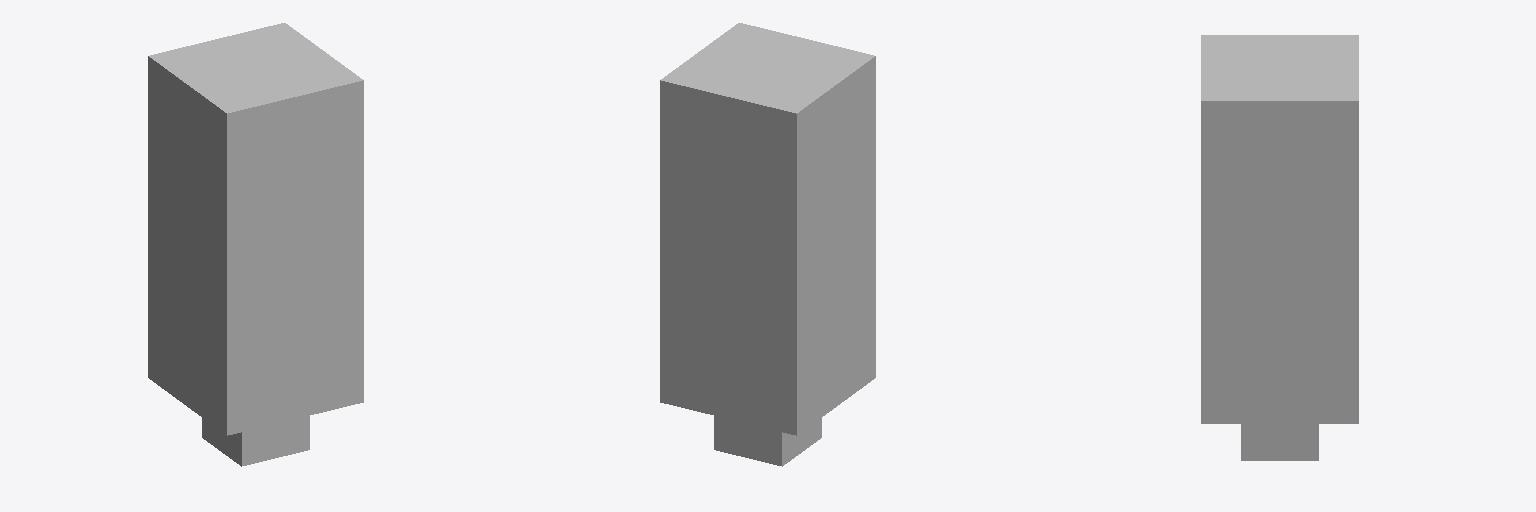
Rendered from tree.obj.
3 views of the same model, side by side, from view 1: azimuth 30°, elevation 25°; view 2: azimuth 150°, elevation 25°; view 3: azimuth 270°, elevation 25° (orthographic).
Visible parts, largest first — view 1: object 1; view 2: object 1; view 3: object 1.
Boxes of the visible parts, box(x1,y1,x2,y2) form: object 1: box(148, 23, 363, 466); object 1: box(660, 23, 875, 466); object 1: box(1201, 35, 1358, 460).
Size of the model in its own units: 0.8 by 2.1 by 0.8.